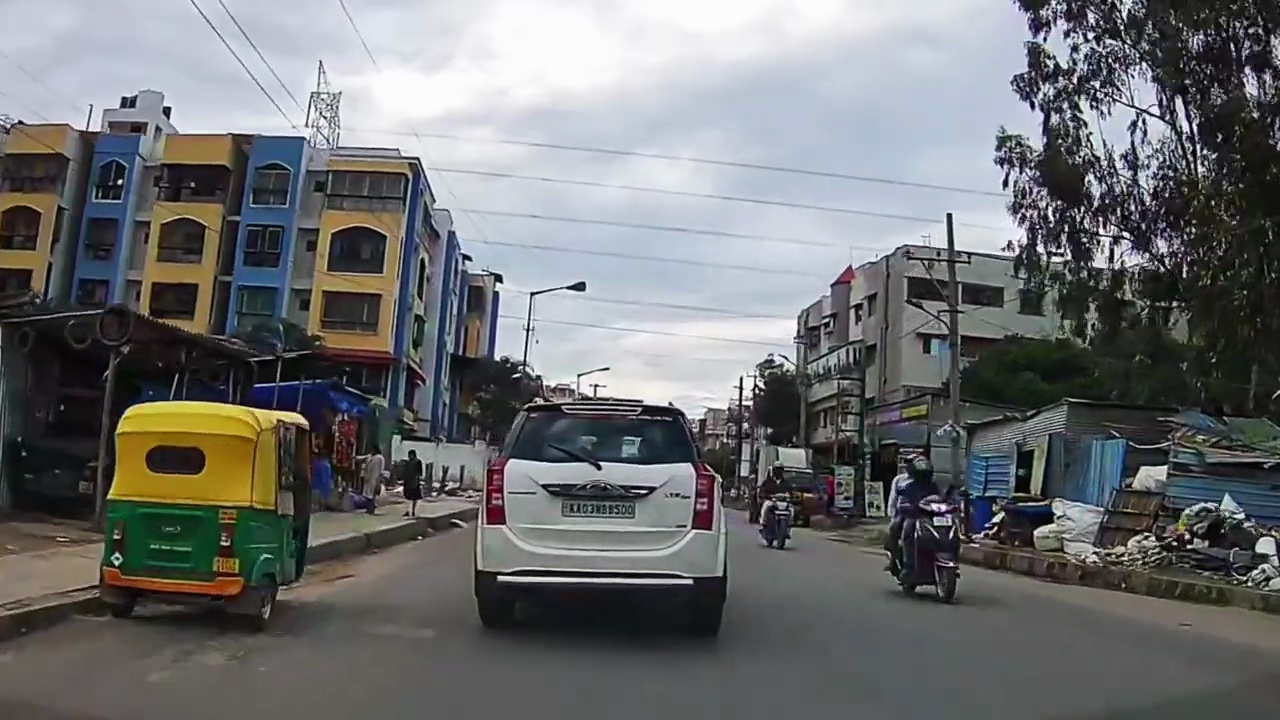garbage: (1116, 529, 1278, 568)
